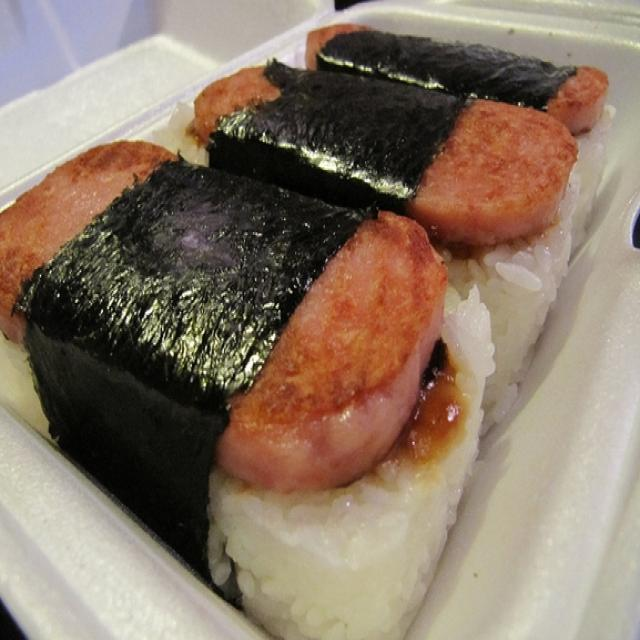寿司卷物: (20, 13, 603, 610)
